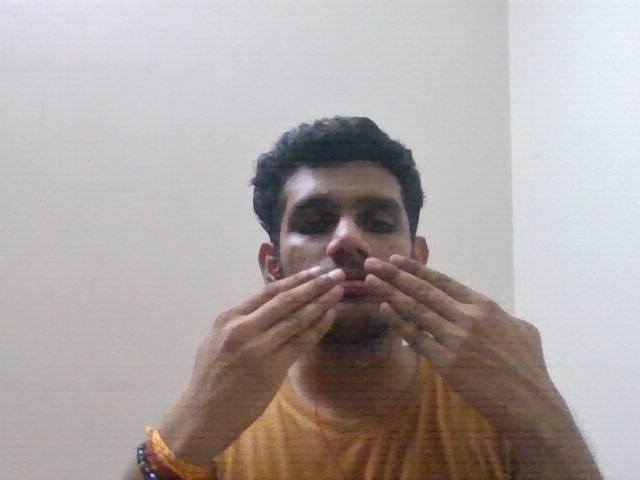thanks: (179, 244, 561, 432)
